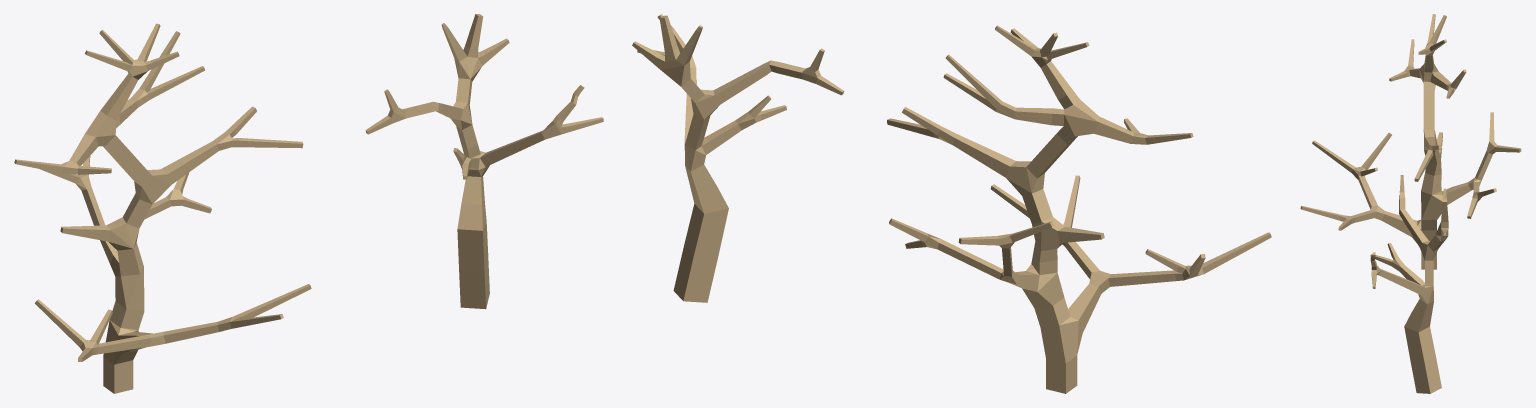
The model's file is Gebüsch.fbx.
The picture shows the model from 3 angles, left to right: view 1: azimuth 30°, elevation 25°; view 2: azimuth 150°, elevation 25°; view 3: azimuth 270°, elevation 25°; orthographic projection. The views are drawn at different scales.
Visible parts, largest first — view 1: Gebüsch2, Gebüsch; view 2: Gebüsch2, Gebüsch; view 3: Gebüsch2, Gebüsch.
Boxes of the visible parts, x1,y1,x2,y2 form: Gebüsch2: (14, 23, 311, 393); Gebüsch: (365, 14, 603, 309); Gebüsch2: (887, 25, 1271, 393); Gebüsch: (632, 14, 843, 302); Gebüsch2: (1300, 14, 1521, 269); Gebüsch: (1370, 175, 1448, 393).
Bounding box in the file's own units: 102 × 60.71 × 48.43.
